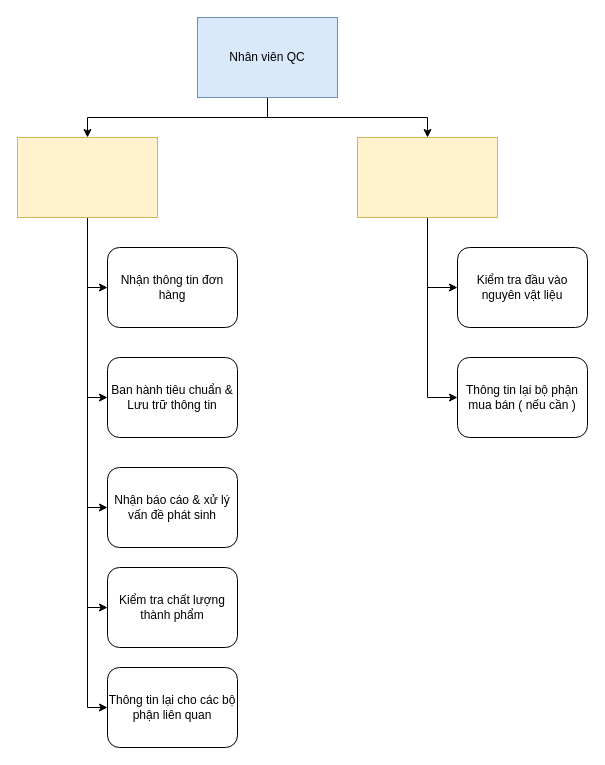
Some shapes in this 605 by 765 pixel diagram are drawn without their labels. The centre of each missing label's shape, as x and y in pixels:
"Vật tư, vật liệu" belongs at point 427,177.
"Đơn hàng" belongs at point 87,177.
